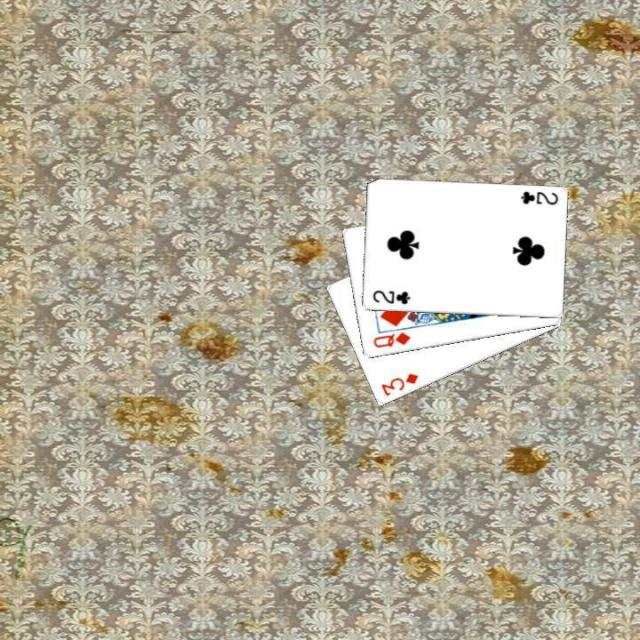2C: (368, 286, 412, 307), (517, 188, 559, 207)
3D: (377, 370, 420, 398)
QD: (369, 328, 412, 350)
